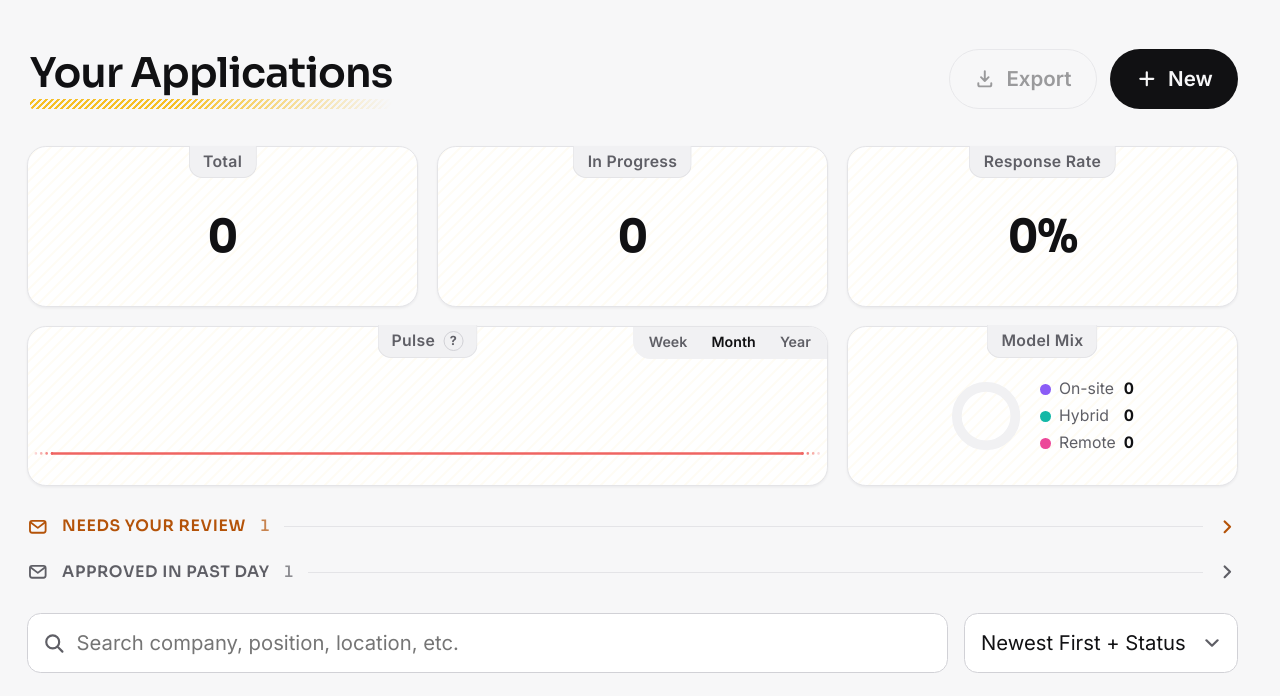
Test: Applications › shows a failed review action's message in the review section
Step 1. Click the button "Needs your review 1" → (632,526), box [27,513,1238,540]
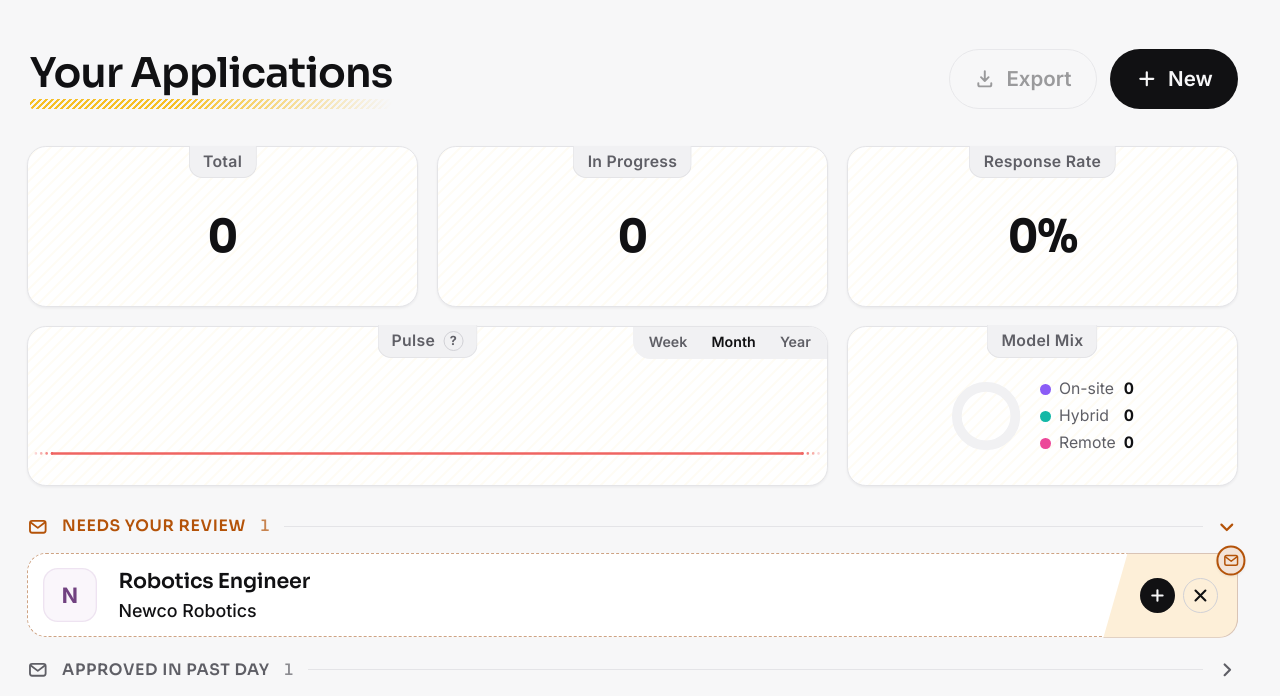
Step 2. Click the button "Approved in past day 1" → (632,670), box [27,656,1238,683]
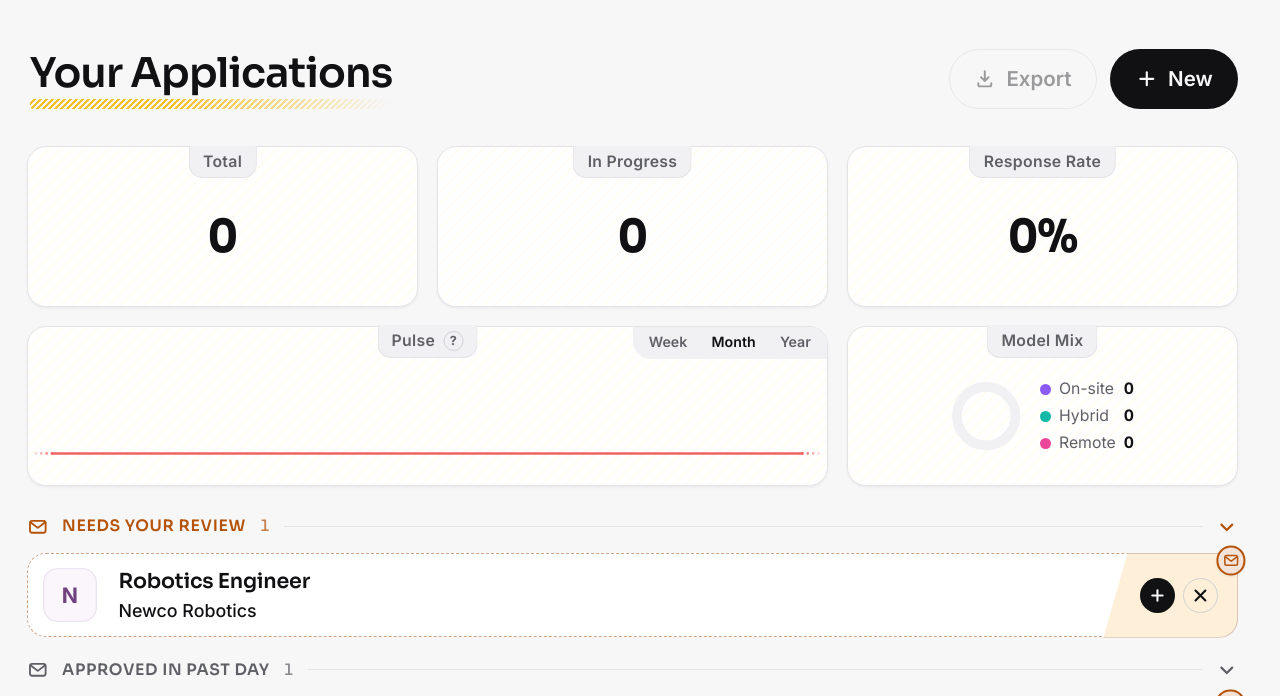
Step 3. Click the button named "Dismiss" → (1201,595), box [1183,578,1218,613]
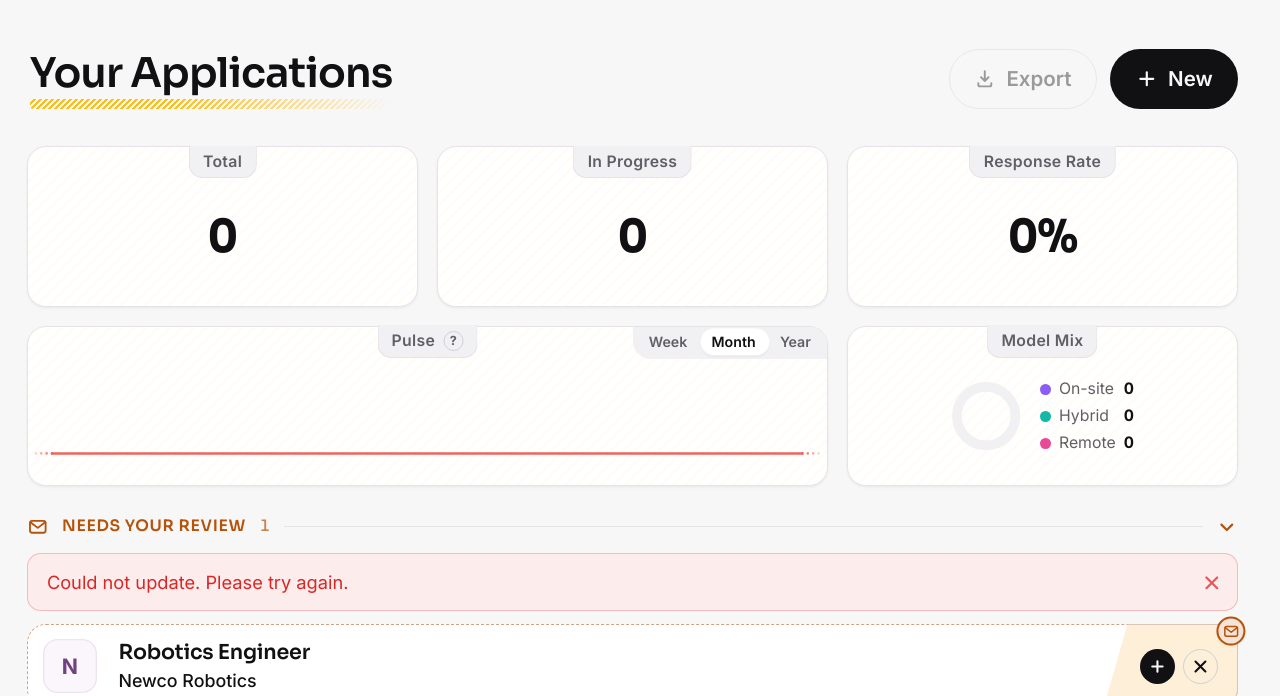
Now the text "Could not update. Please try again." is shown, box [47,571,348,593]
